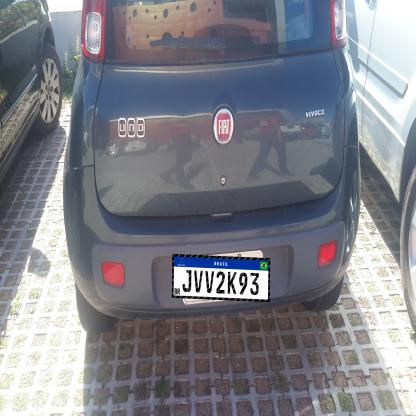PlacaM: (172, 254, 270, 302)
